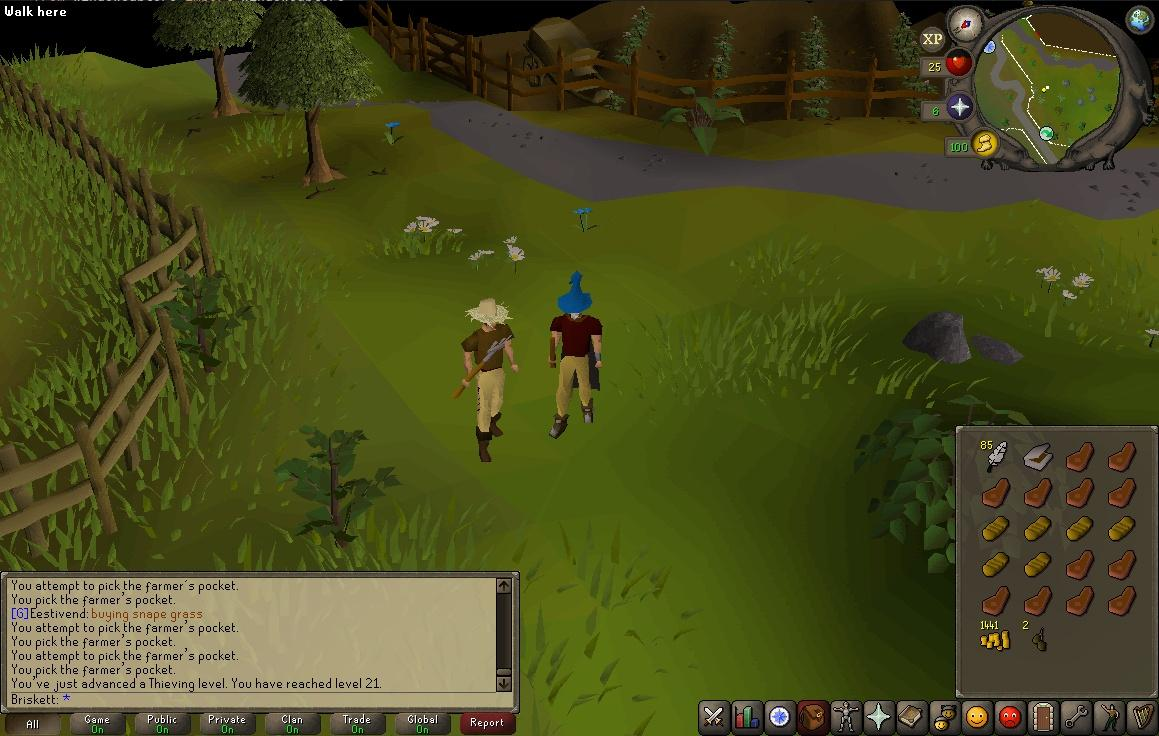Farmer: (452, 298, 520, 463)
